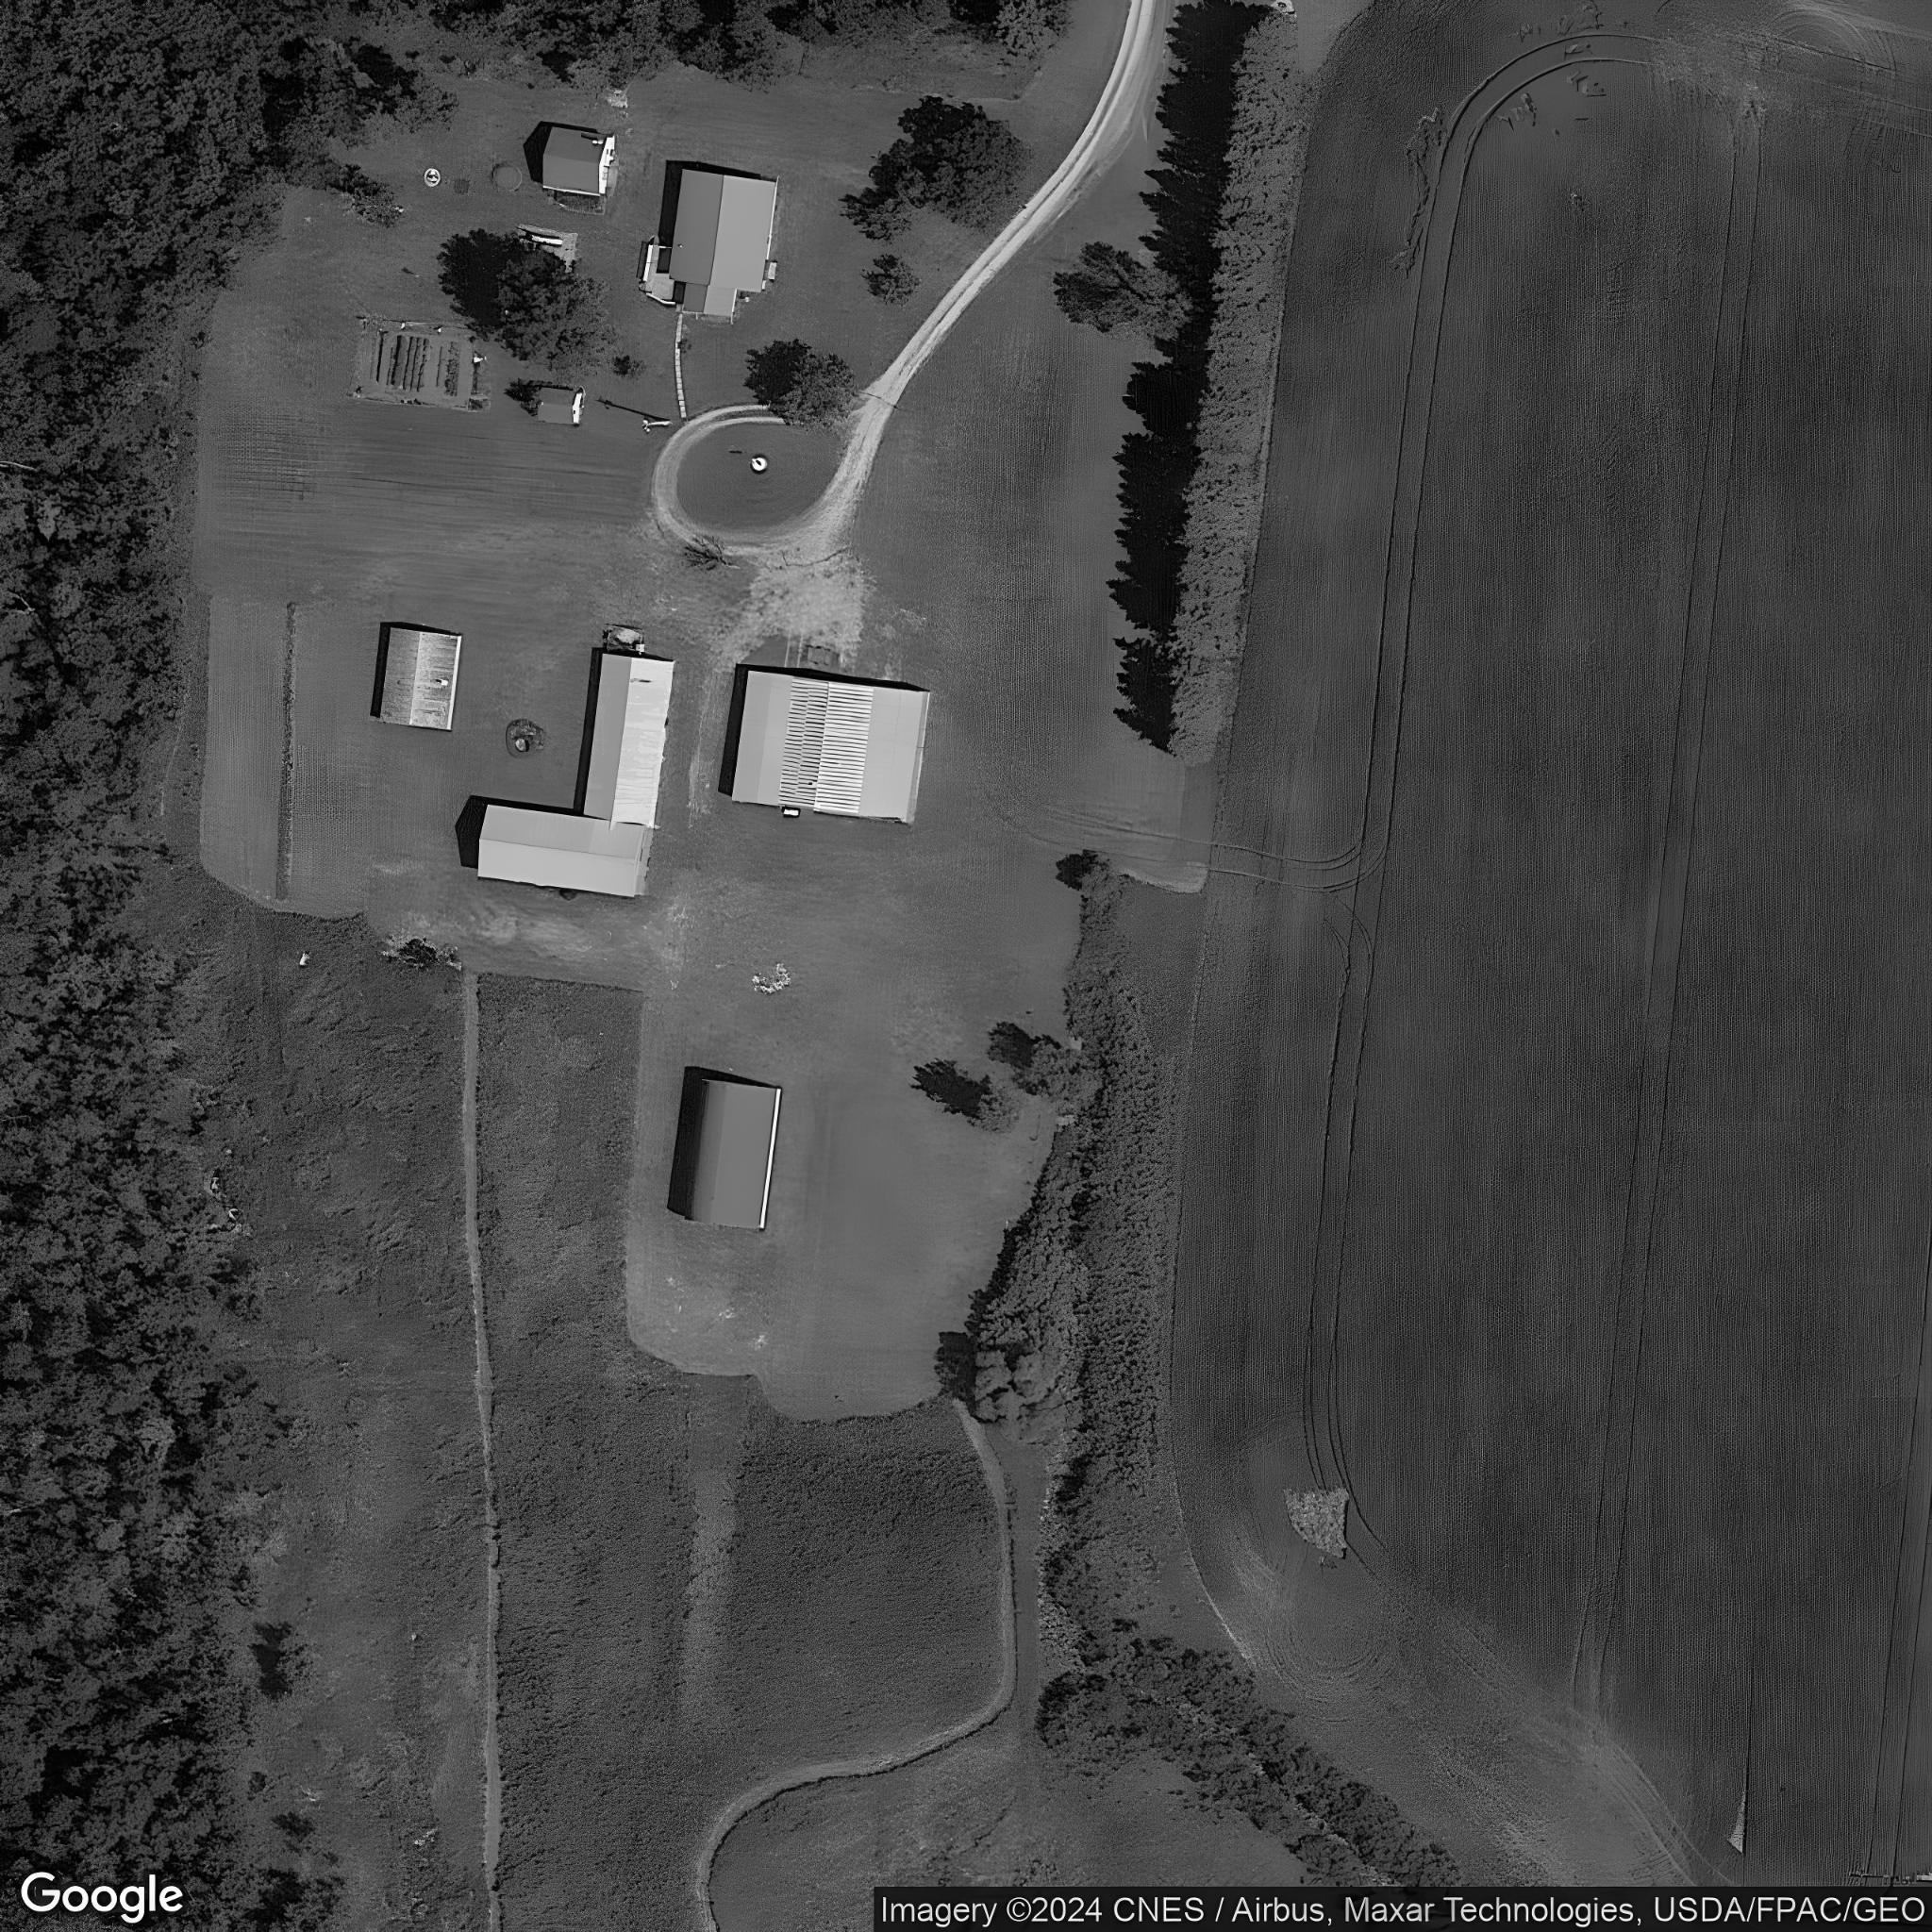Garage: (732, 669, 927, 823), (536, 387, 584, 426)
House: (667, 168, 778, 313), (543, 126, 616, 196)
Other: (476, 655, 674, 897), (681, 1079, 784, 1231), (377, 626, 464, 729)
Propane: (527, 232, 563, 248), (782, 807, 800, 817)
